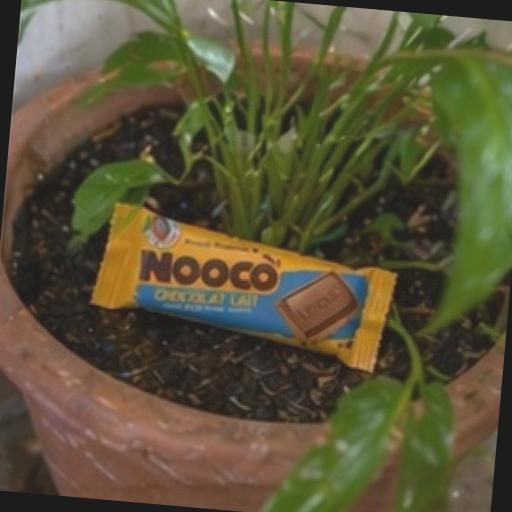nooco: (24, 150, 427, 388)
